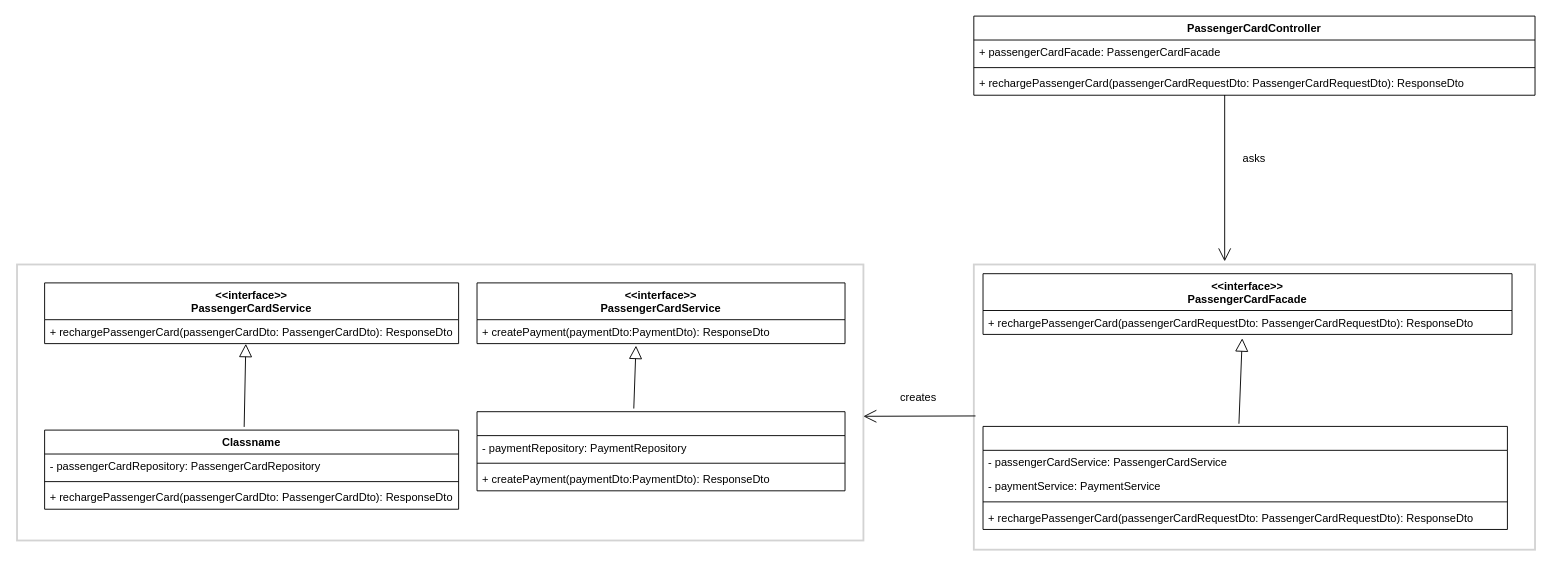
The diagram is 1551 pixels wide and 567 high, and some of its shapes have lost their labels. Each missing label, with the box of its shape:
PassengerCardFacadeImpl: (982, 426, 1507, 529)
PassengerCardServiceImpl: (476, 411, 845, 491)
